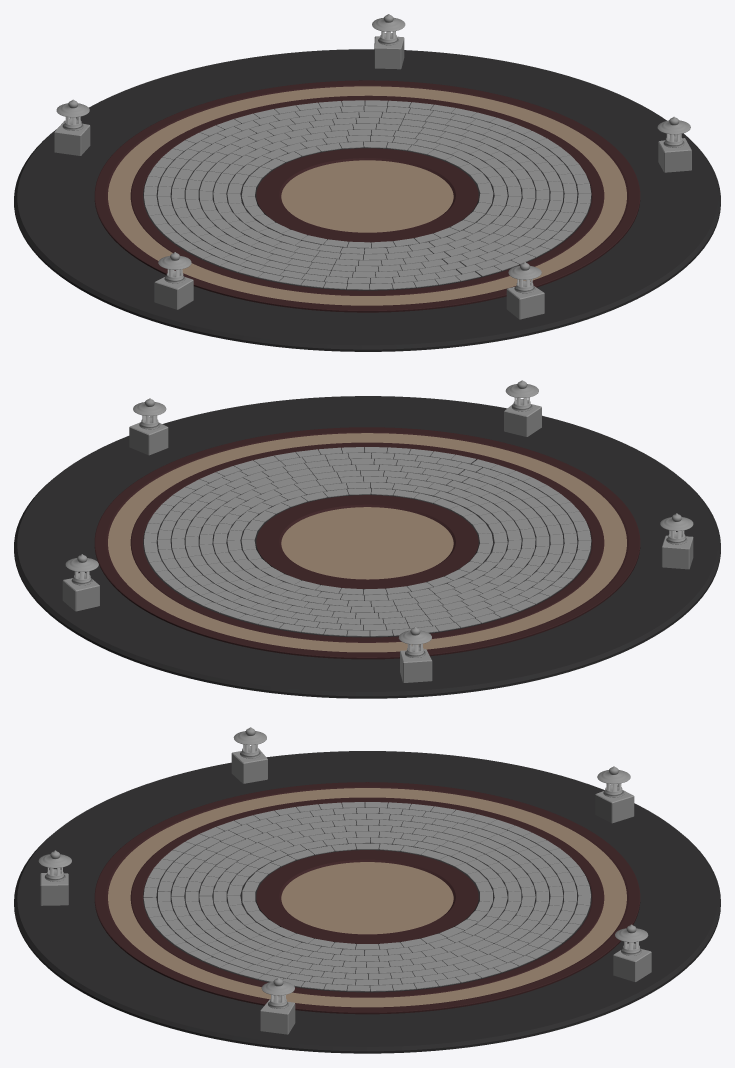
The model's file is arenafixednormal.fbx.
3 views of the same model, one above another, from view 1: azimuth 30°, elevation 25°; view 2: azimuth 150°, elevation 25°; view 3: azimuth 270°, elevation 25° (orthographic).
Visible parts, largest first — view 1: Floor, Tiles, Lanterns; view 2: Floor, Tiles, Lanterns; view 3: Floor, Tiles, Lanterns.
Part boxes in pixels (<box>): Floor: <box>14,49,720,351</box>; Tiles: <box>144,100,591,289</box>; Lanterns: <box>54,14,691,319</box>; Floor: <box>14,396,720,698</box>; Tiles: <box>144,447,591,636</box>; Lanterns: <box>62,380,693,682</box>; Floor: <box>14,751,720,1053</box>; Tiles: <box>143,802,590,991</box>; Lanterns: <box>38,727,651,1034</box>.
Size of the model in its own units: 10771 by 914 by 10771.
